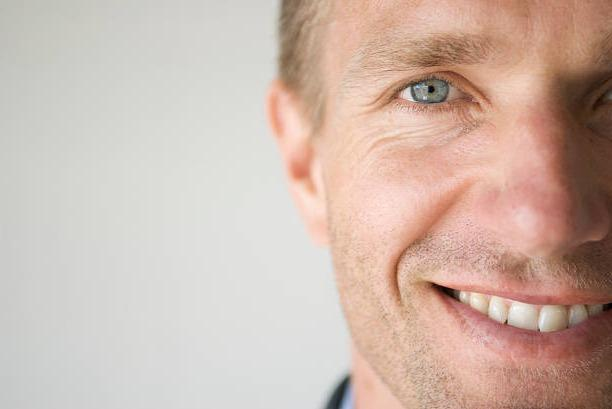Wrinkles: (356, 127, 431, 166), (376, 125, 459, 149), (361, 109, 381, 115)
